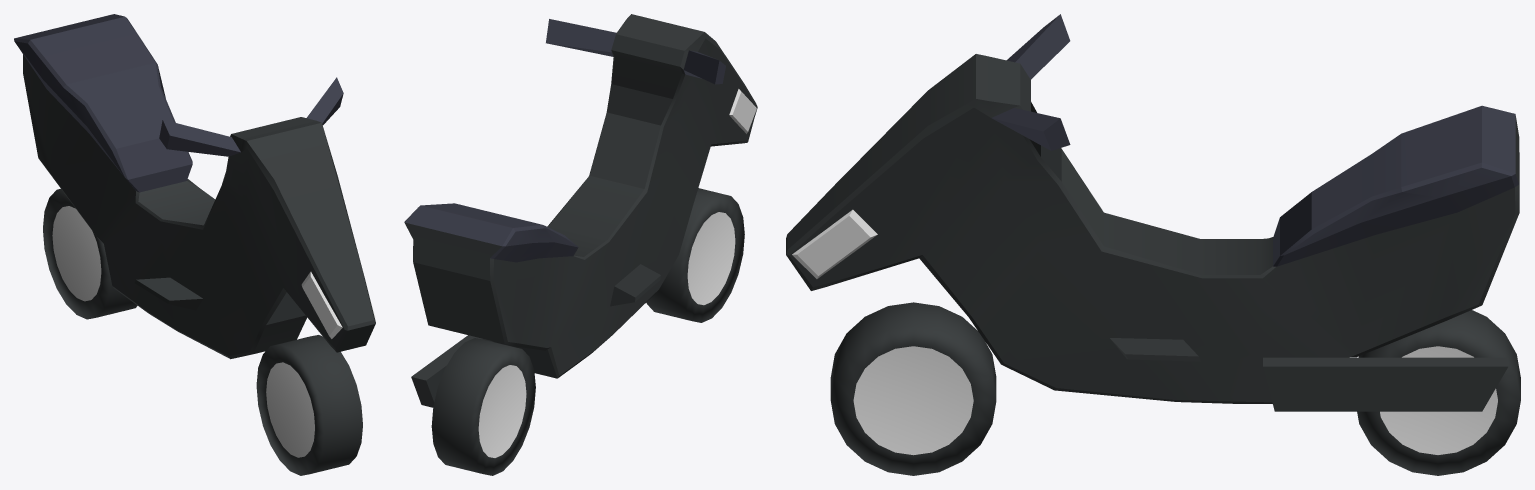
Rendered from motorcycle 2 black.fbx.
3 renders of one model, left to right at view 1: azimuth 30°, elevation 25°; view 2: azimuth 150°, elevation 25°; view 3: azimuth 270°, elevation 25°, orthographic. The views are drawn at different scales.
Visible parts, largest first — view 1: motorcycle_2_black; view 2: motorcycle_2_black; view 3: motorcycle_2_black.
Part boxes in pixels (box(x1,y1,x2,y2)): motorcycle_2_black: box(14, 14, 375, 475); motorcycle_2_black: box(404, 14, 757, 475); motorcycle_2_black: box(786, 14, 1520, 475).
Bounding box in the file's own units: 33.42 × 59.46 × 99.48.
